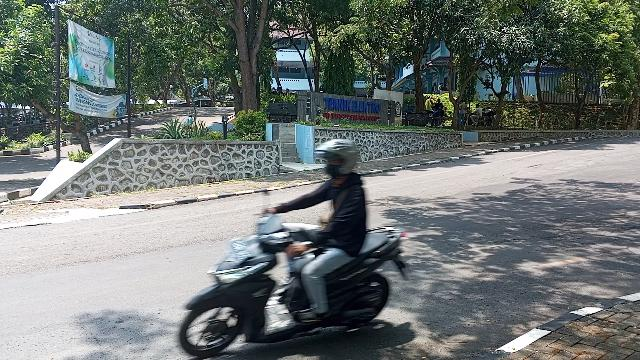helm: (313, 137, 362, 179)
motor: (178, 186, 414, 359)
